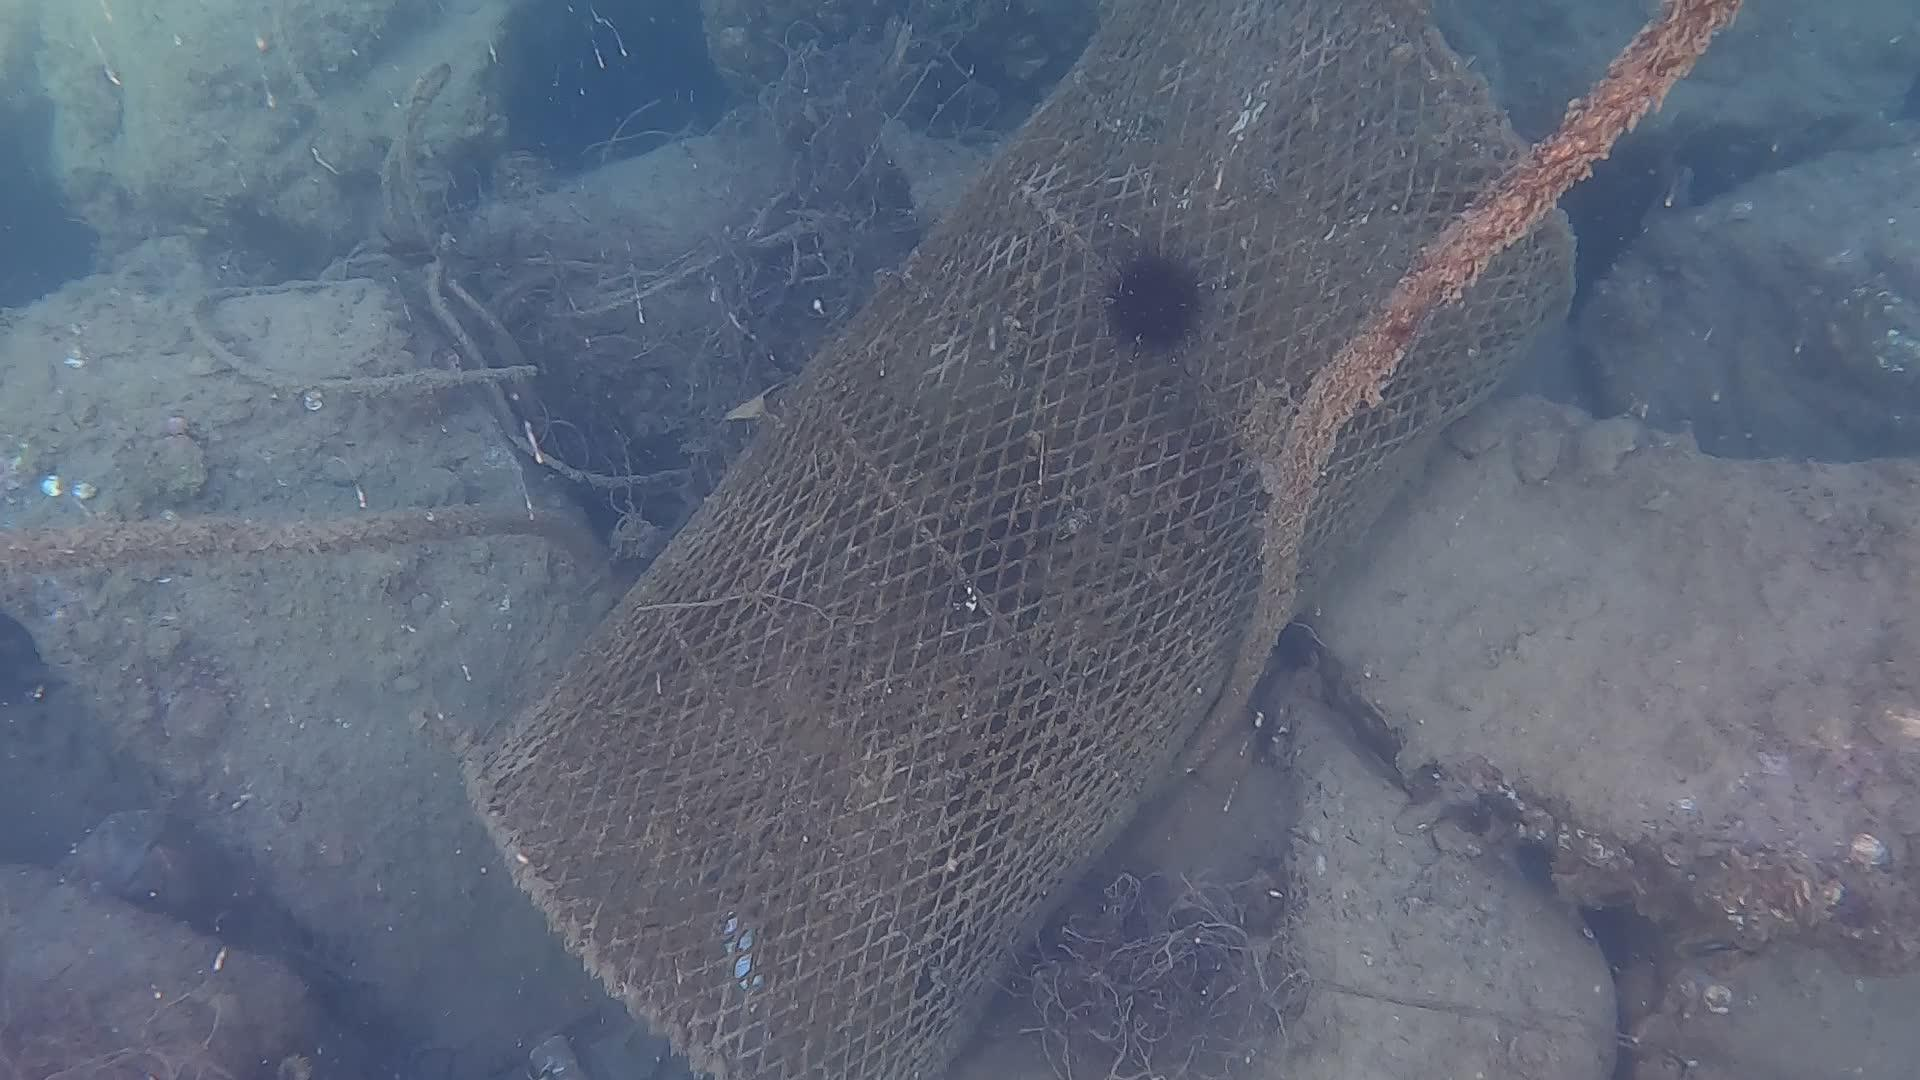rope: (1156, 0, 1749, 793), (0, 504, 608, 572)
spring fish trap: (454, 5, 1578, 1080)
